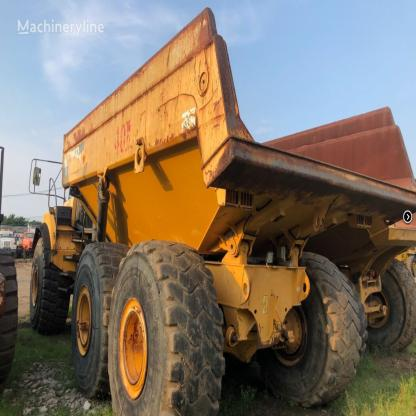dump_truck: (15, 17, 414, 416)
